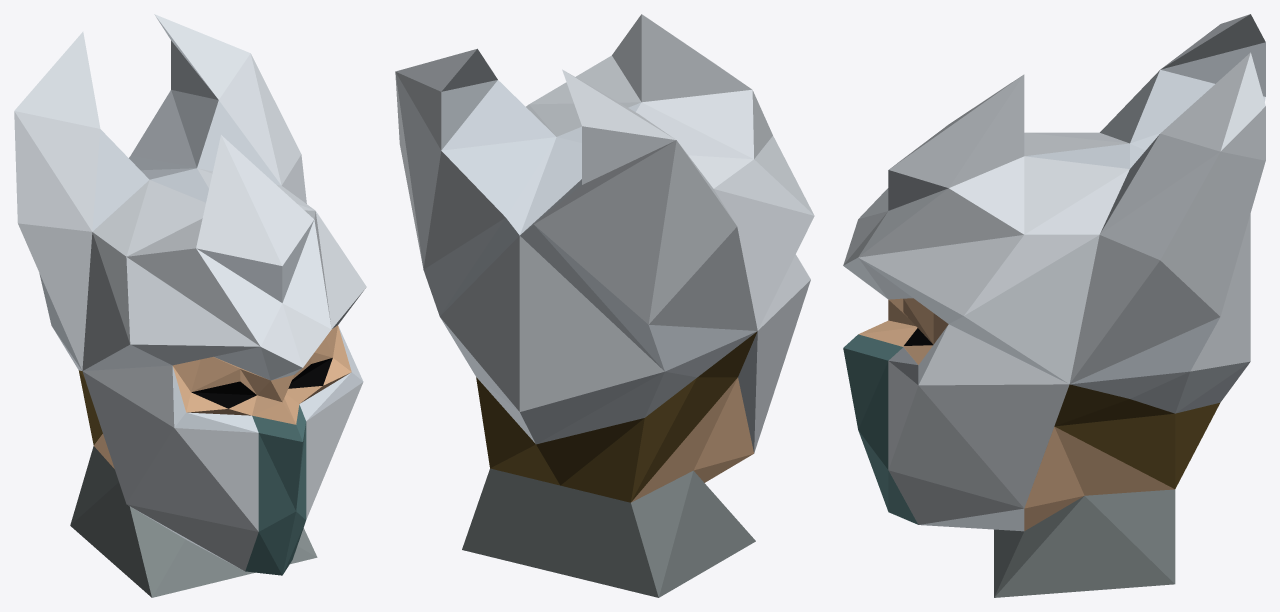
Rendered from player_crystal_helm.glb.
3 views of the same model, side by side, from view 1: azimuth 30°, elevation 25°; view 2: azimuth 150°, elevation 25°; view 3: azimuth 270°, elevation 25° (orthographic). The views are drawn at different scales.
Bounding box in the file's own units: 23.99 × 38 × 27.99.
Materials: 1 (1 with a texture image).
